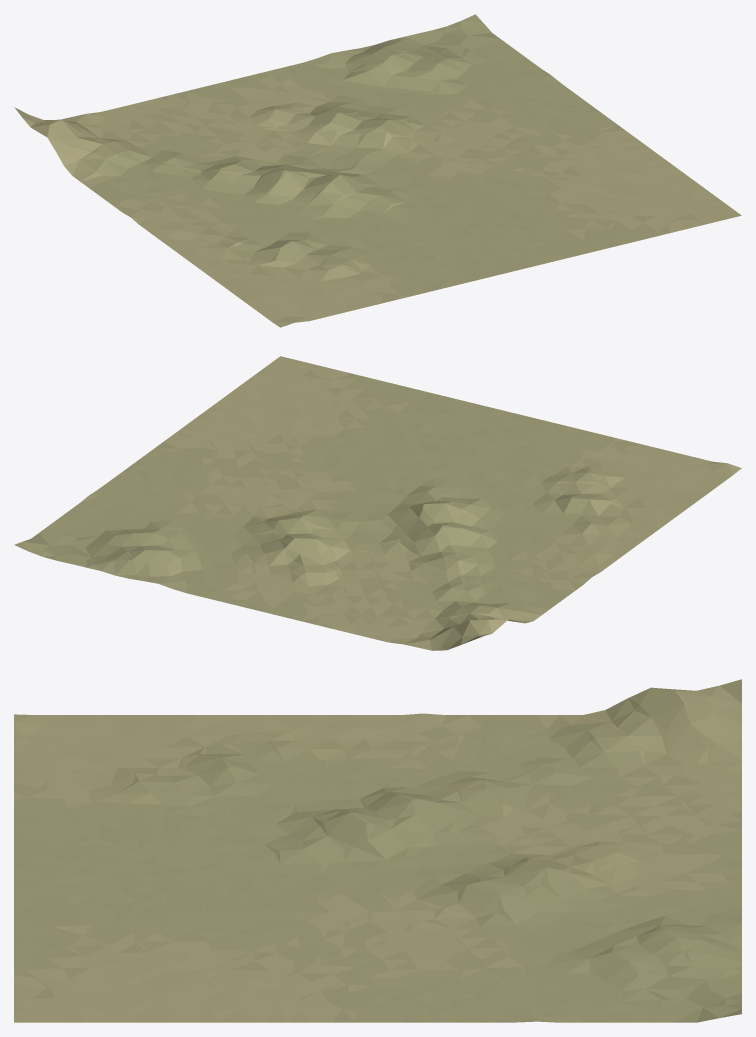
File: Ground_6_-6.glb
3 views of the same model, one above another, from view 1: azimuth 30°, elevation 25°; view 2: azimuth 150°, elevation 25°; view 3: azimuth 270°, elevation 25° (orthographic). The views are drawn at different scales.
Visible parts, largest first — view 1: Ground_6_-6; view 2: Ground_6_-6; view 3: Ground_6_-6.
Boxes of the visible parts, left/top/right/bottom form: Ground_6_-6: left=14, top=14, right=741, bottom=327; Ground_6_-6: left=14, top=356, right=741, bottom=650; Ground_6_-6: left=14, top=679, right=741, bottom=1022.
Size of the model in its own units: 768 by 41.83 by 768.
